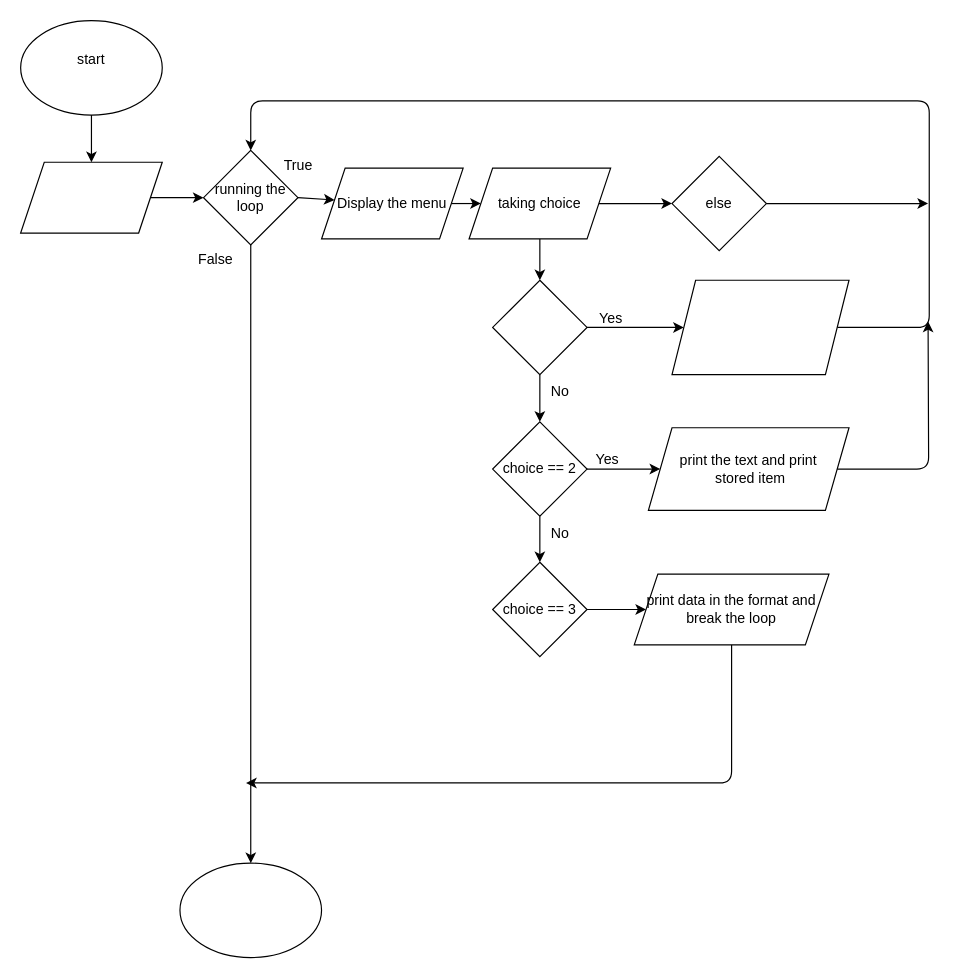
Some shapes in this 959 by 978 pixel diagram are drawn without their labels. Each missing label, with the centre of its shape:
"Choice ==1" goes at point (539, 327).
"end" goes at point (250, 910).
"taking item name and storing it in the corresponding variable" goes at point (760, 327).
"taking Title and variable for storing data" goes at point (90, 197).
